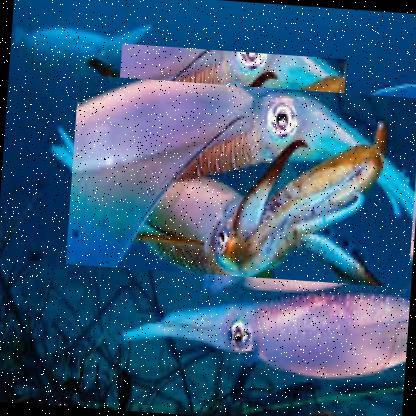colossal_squid: (66, 74, 415, 290), (109, 44, 348, 252), (102, 275, 409, 400)
